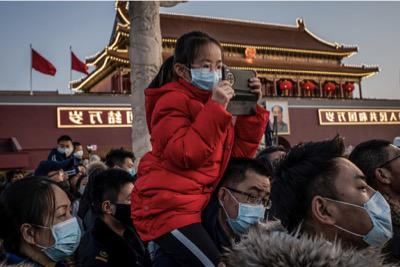mask_weared_incorrect: (50, 169, 71, 193)
with_mask: (327, 169, 392, 251), (34, 199, 80, 260), (222, 185, 273, 235), (185, 55, 225, 93), (110, 185, 135, 226), (120, 159, 135, 177), (58, 143, 75, 155), (75, 146, 84, 158)
